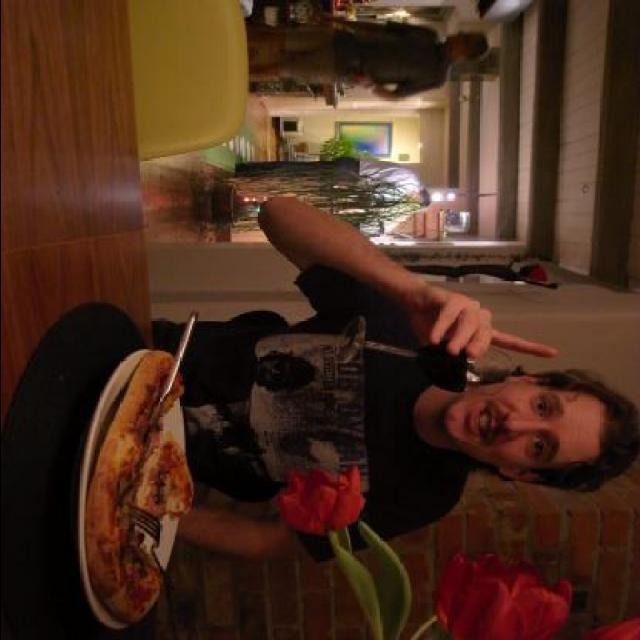Pizza: (70, 354, 196, 612)
